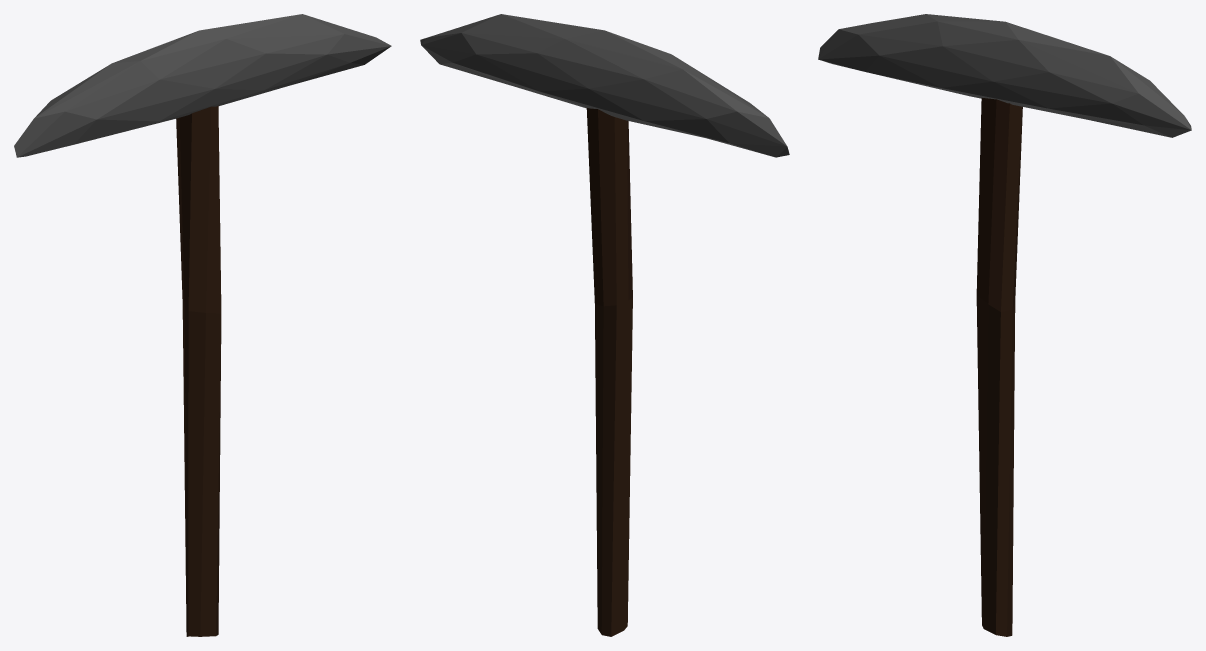
The model's file is stonePickAxe.fbx.
3 views of the same model, side by side, from view 1: azimuth 30°, elevation 25°; view 2: azimuth 150°, elevation 25°; view 3: azimuth 330°, elevation 25° (orthographic).
Visible parts, largest first — view 1: Cylinder; view 2: Cylinder; view 3: Cylinder.
Boxes of the visible parts, x1,y1,x2,y2 form: Cylinder: (14, 14, 391, 636); Cylinder: (420, 14, 789, 636); Cylinder: (818, 14, 1191, 636).
Bounding box in the file's own units: 13.45 × 20.86 × 1.76.
